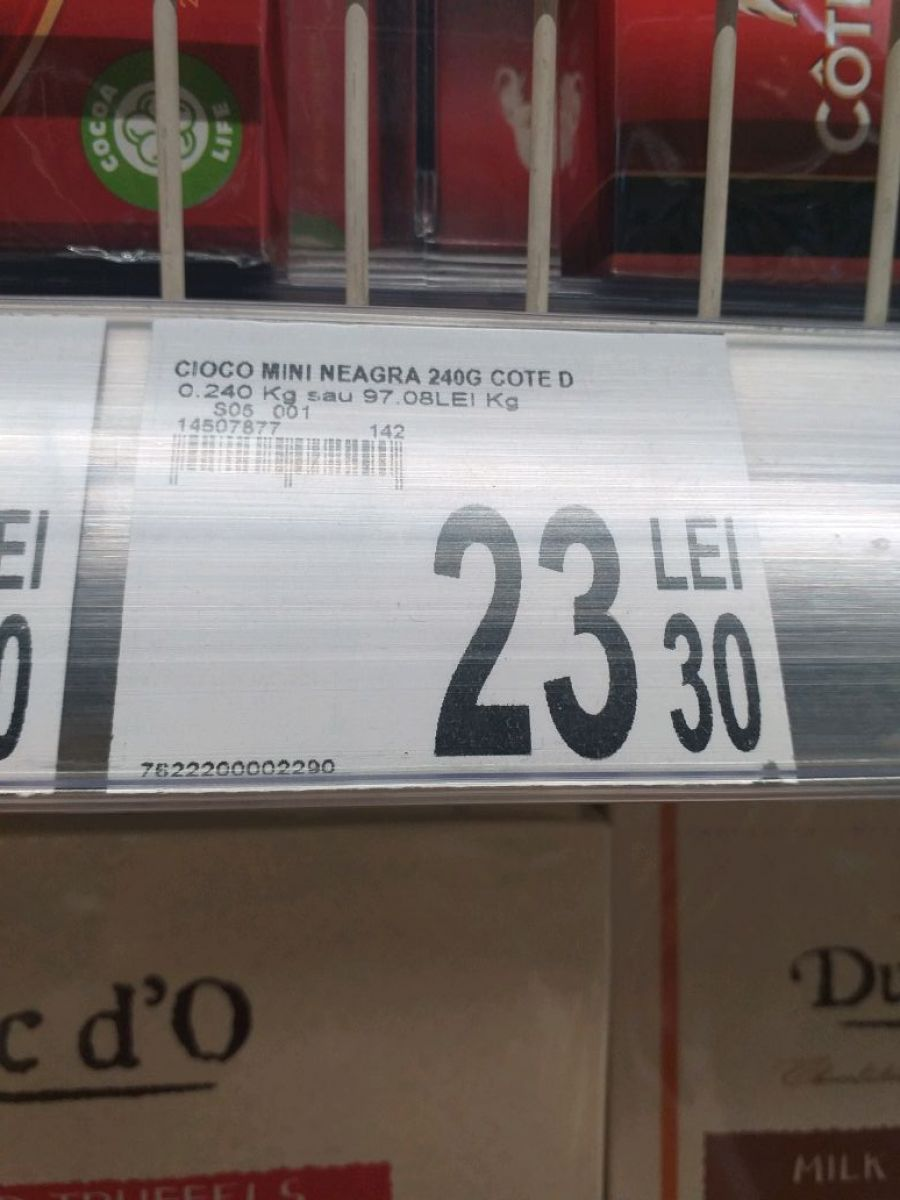bardcode: (137, 758, 339, 783)
list: (104, 312, 809, 793)
name: (174, 352, 580, 401)
price: (429, 498, 772, 760)
